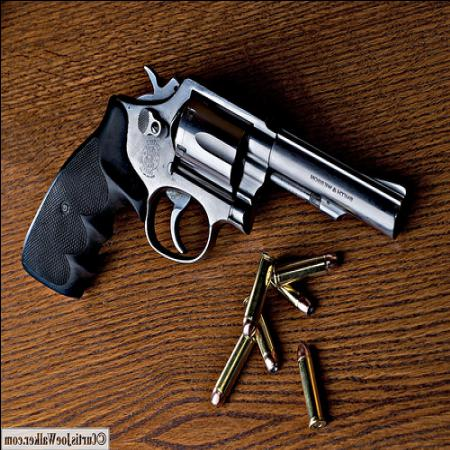Pistol: (17, 54, 409, 319)
